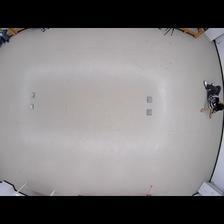fall: (200, 79, 224, 119)
